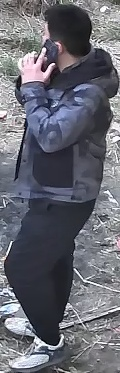phone: (11, 31, 86, 153)
